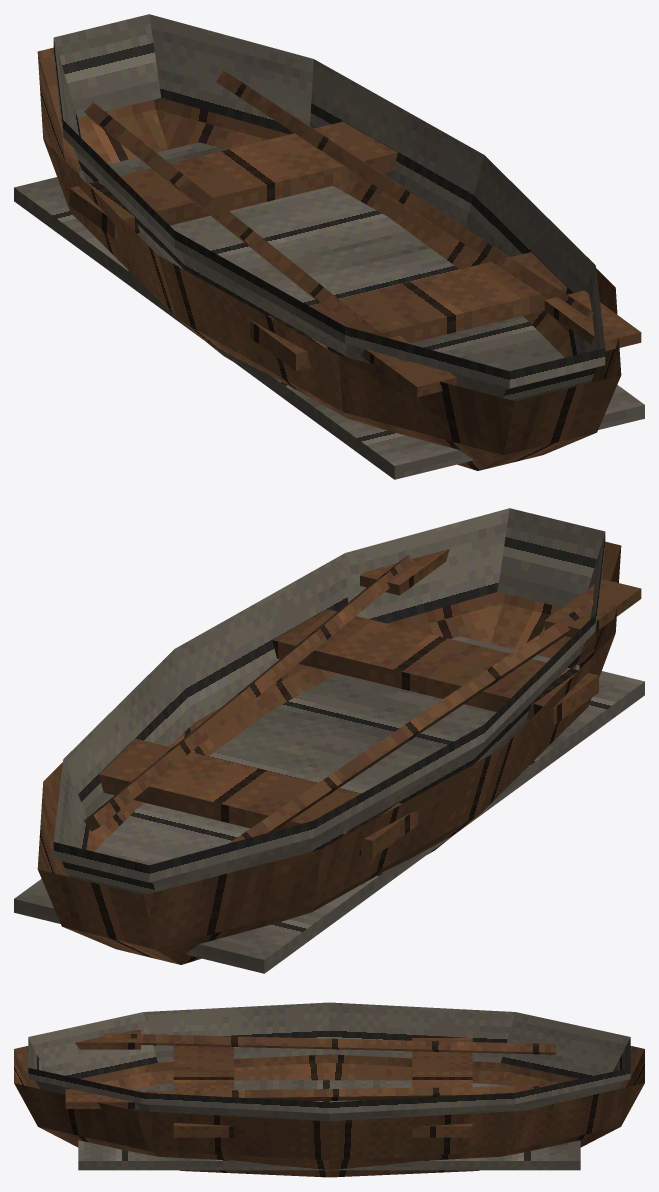
Rendered from barca.obj.
3 views of the same model, one above another, from view 1: azimuth 30°, elevation 25°; view 2: azimuth 150°, elevation 25°; view 3: azimuth 270°, elevation 25° (orthographic). The views are drawn at different scales.
Parts seen in each view (by area): view 1: barca; view 2: barca; view 3: barca.
Part boxes in pixels (box(x1,y1,x2,y2)): barca: box(14, 14, 644, 479); barca: box(14, 508, 644, 973); barca: box(14, 1002, 644, 1177).
Bounding box in the file's own units: 1.04 × 0.4 × 2.51.
2 materials, 2 textured.
